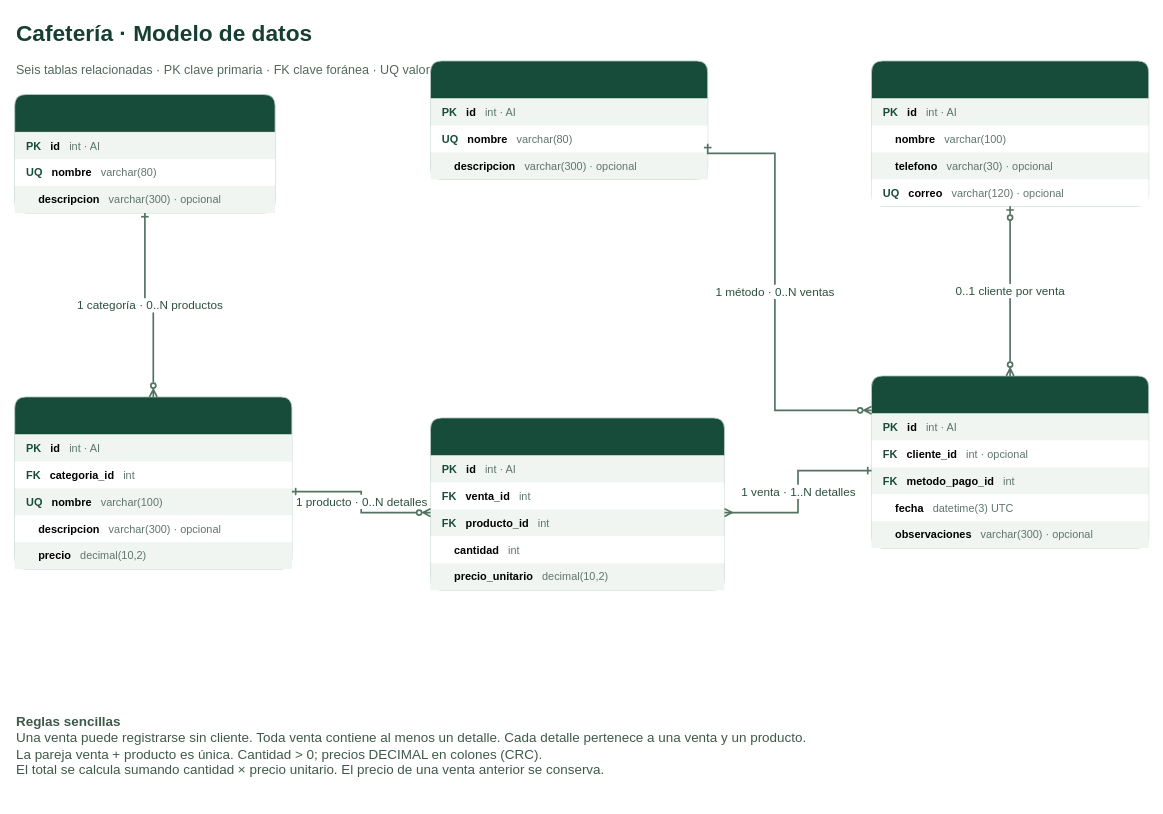
Image size: 1163x814. Some labels were removed from this diagram. Here are the shapes that lost their labels. From the top down, the box of each, then its label:
(430, 60, 708, 179): metodos_pago
(871, 60, 1149, 206): clientes
(14, 94, 275, 213): categorias
(871, 375, 1149, 548): ventas
(14, 396, 292, 569): productos
(430, 417, 724, 590): detalle_ventas
